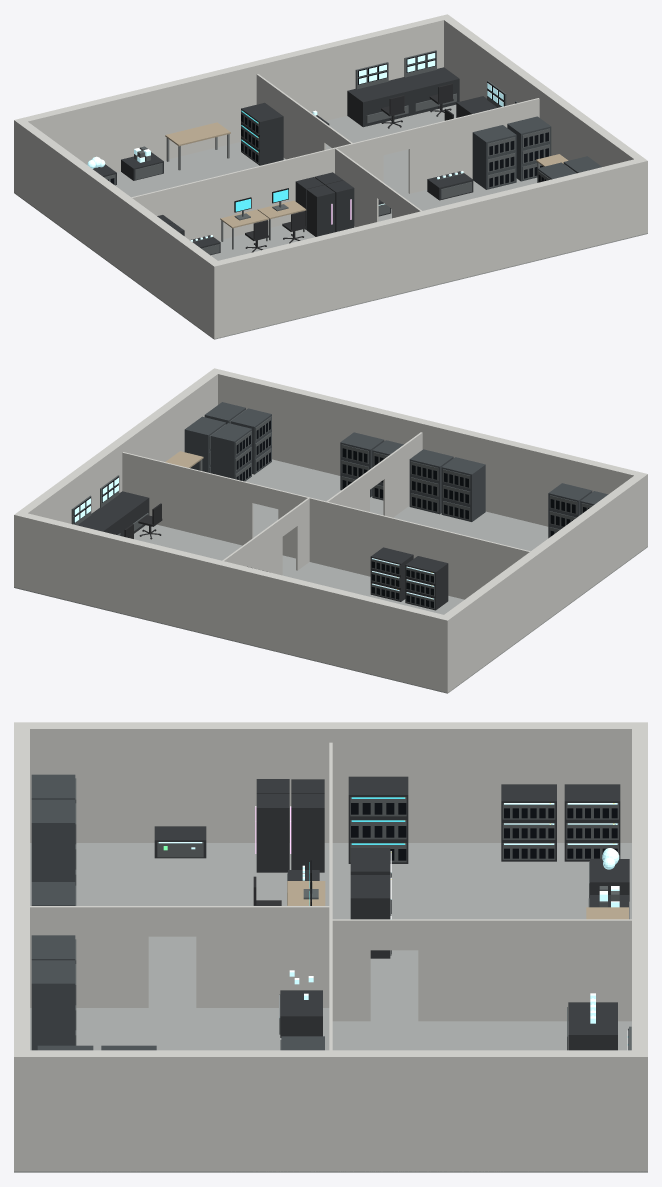
Rendered from WebServiceCompany.glb.
The picture shows the model from 3 angles, top to bottom: view 1: azimuth 30°, elevation 25°; view 2: azimuth 150°, elevation 25°; view 3: azimuth 270°, elevation 25°; orthographic projection. The views are drawn at different scales.
Parts seen in each view (by area): view 1: Wall_Outer_South.003, Wall_Outer_North.003, Wall_Outer_West.003, Wall_Divider_TopBottom.002, Room_Floor.003, Wall_Outer_East.003, Wall_Divider_Workspace_Meeting.002, Wall_Divider_Admin_Server.002, MD_Body.002, MD_Body.001, Dev_Tower_Body.004, Dev_Tower_Body.003 (+8 smaller); view 2: Wall_Outer_North.003, Wall_Divider_TopBottom.002, Wall_Outer_South.003, Wall_Outer_West.003, Room_Floor.003, Wall_Outer_East.003, Wall_Divider_Admin_Server.002, Wall_Divider_Workspace_Meeting.002, MD_Body.003, DB2_Body.015, DB2_Body.010, DB2_Body.034 (+9 smaller); view 3: Wall_Outer_East.003, Wall_Outer_West.003, Room_Floor.003, Wall_Divider_Workspace_Meeting.002, Wall_Divider_Admin_Server.002, Wall_Outer_North.003, Wall_Outer_South.003, Dev_Tower_Body.006, Dev_Tower_Body.008, CICD_Body.001, DB2_Body.022, DB2_Body.027 (+19 smaller).
Part boxes in pixels (left/top/right/bottom): Wall_Outer_South.003: left=209, top=159, right=647, bottom=339; Wall_Outer_North.003: left=14, top=14, right=447, bottom=195; Wall_Outer_West.003: left=14, top=119, right=222, bottom=338; Wall_Divider_TopBottom.002: left=113, top=98, right=539, bottom=264; Room_Floor.003: left=14, top=104, right=647, bottom=339; Wall_Outer_East.003: left=439, top=14, right=647, bottom=234; Wall_Divider_Workspace_Meeting.002: left=256, top=74, right=352, bottom=159; Wall_Divider_Admin_Server.002: left=335, top=148, right=421, bottom=227; MD_Body.002: left=347, top=79, right=411, bottom=127; MD_Body.001: left=396, top=67, right=459, bottom=115; Dev_Tower_Body.004: left=306, top=185, right=335, bottom=236; Dev_Tower_Body.003: left=325, top=180, right=354, bottom=231; Wall_Outer_North.003: left=14, top=513, right=452, bottom=692; Wall_Divider_TopBottom.002: left=122, top=452, right=547, bottom=619; Wall_Outer_South.003: left=215, top=368, right=647, bottom=546; Wall_Outer_West.003: left=439, top=473, right=647, bottom=692; Room_Floor.003: left=14, top=459, right=647, bottom=693; Wall_Outer_East.003: left=14, top=368, right=222, bottom=588; Wall_Divider_Admin_Server.002: left=326, top=432, right=422, bottom=517; Wall_Divider_Workspace_Meeting.002: left=208, top=498, right=309, bottom=633; MD_Body.003: left=95, top=491, right=149, bottom=536; DB2_Body.015: left=210, top=423, right=251, bottom=457; DB2_Body.010: left=184, top=416, right=225, bottom=450; DB2_Body.034: left=441, top=457, right=485, bottom=490; Wall_Outer_East.003: left=14, top=1050, right=647, bottom=1171; Wall_Outer_West.003: left=15, top=722, right=647, bottom=842; Room_Floor.003: left=14, top=843, right=647, bottom=1172; Wall_Divider_Workspace_Meeting.002: left=331, top=919, right=631, bottom=1021; Wall_Divider_Admin_Server.002: left=30, top=906, right=331, bottom=1007; Wall_Outer_North.003: left=632, top=722, right=647, bottom=1171; Wall_Outer_South.003: left=14, top=722, right=29, bottom=1170; Dev_Tower_Body.006: left=256, top=794, right=289, bottom=872; Dev_Tower_Body.008: left=291, top=794, right=324, bottom=872; CICD_Body.001: left=568, top=1002, right=617, bottom=1050; DB2_Body.022: left=31, top=960, right=75, bottom=1008; DB2_Body.027: left=31, top=799, right=75, bottom=847.
Bounding box in the file's own units: 50 × 8.05 × 40.
